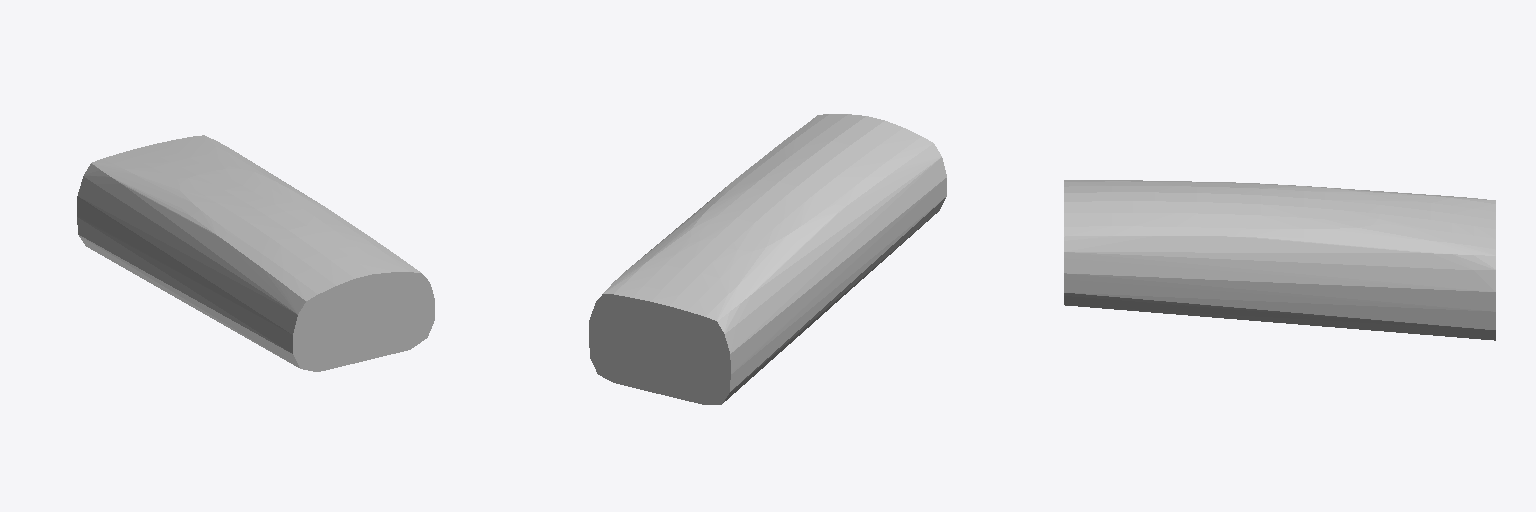
The model's file is pan_collision_12.obj.
3 renders of one model, left to right at view 1: azimuth 30°, elevation 25°; view 2: azimuth 150°, elevation 25°; view 3: azimuth 270°, elevation 25°, orthographic.
Size of the model in its own units: 0.0321 by 0.0255 by 0.0844.